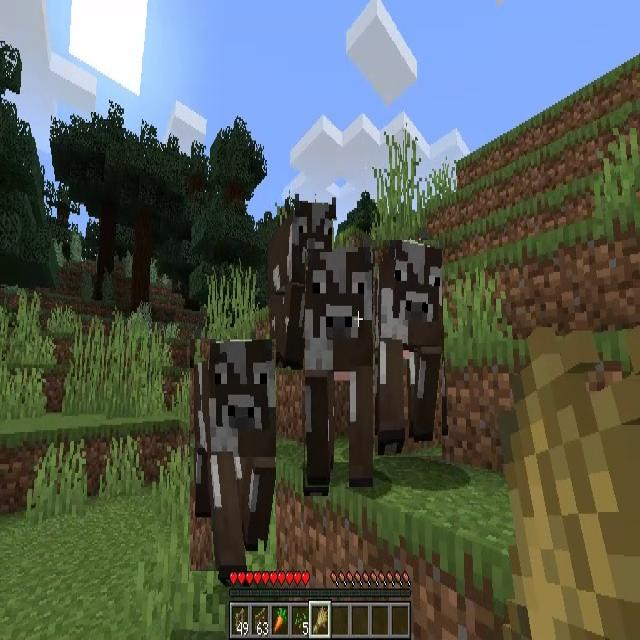cow: (190, 339, 276, 571), (305, 252, 373, 487), (375, 240, 442, 456), (266, 198, 339, 368)
